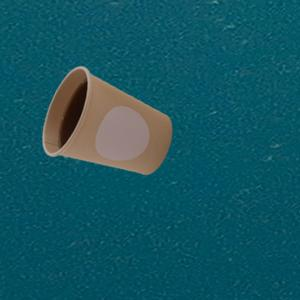cup: (41, 65, 172, 175)
